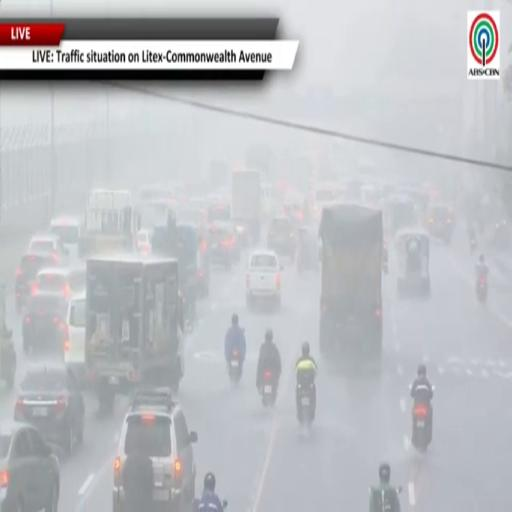car: (113, 389, 197, 511), (15, 362, 85, 455), (0, 420, 59, 511), (23, 265, 85, 351), (22, 292, 67, 354), (15, 251, 56, 313), (246, 250, 282, 310), (63, 292, 86, 382), (31, 264, 85, 301), (50, 216, 83, 260), (209, 221, 239, 269), (29, 232, 68, 265), (267, 215, 296, 259), (208, 198, 230, 222), (137, 229, 152, 255)
motorcycle: (412, 404, 431, 452), (297, 383, 314, 425), (261, 371, 276, 407), (370, 487, 391, 511), (228, 349, 242, 383), (477, 277, 488, 303), (192, 499, 202, 511), (470, 237, 477, 253)
truck: (86, 254, 184, 411), (319, 203, 383, 362), (78, 189, 141, 259), (231, 169, 261, 243), (208, 158, 229, 189)
